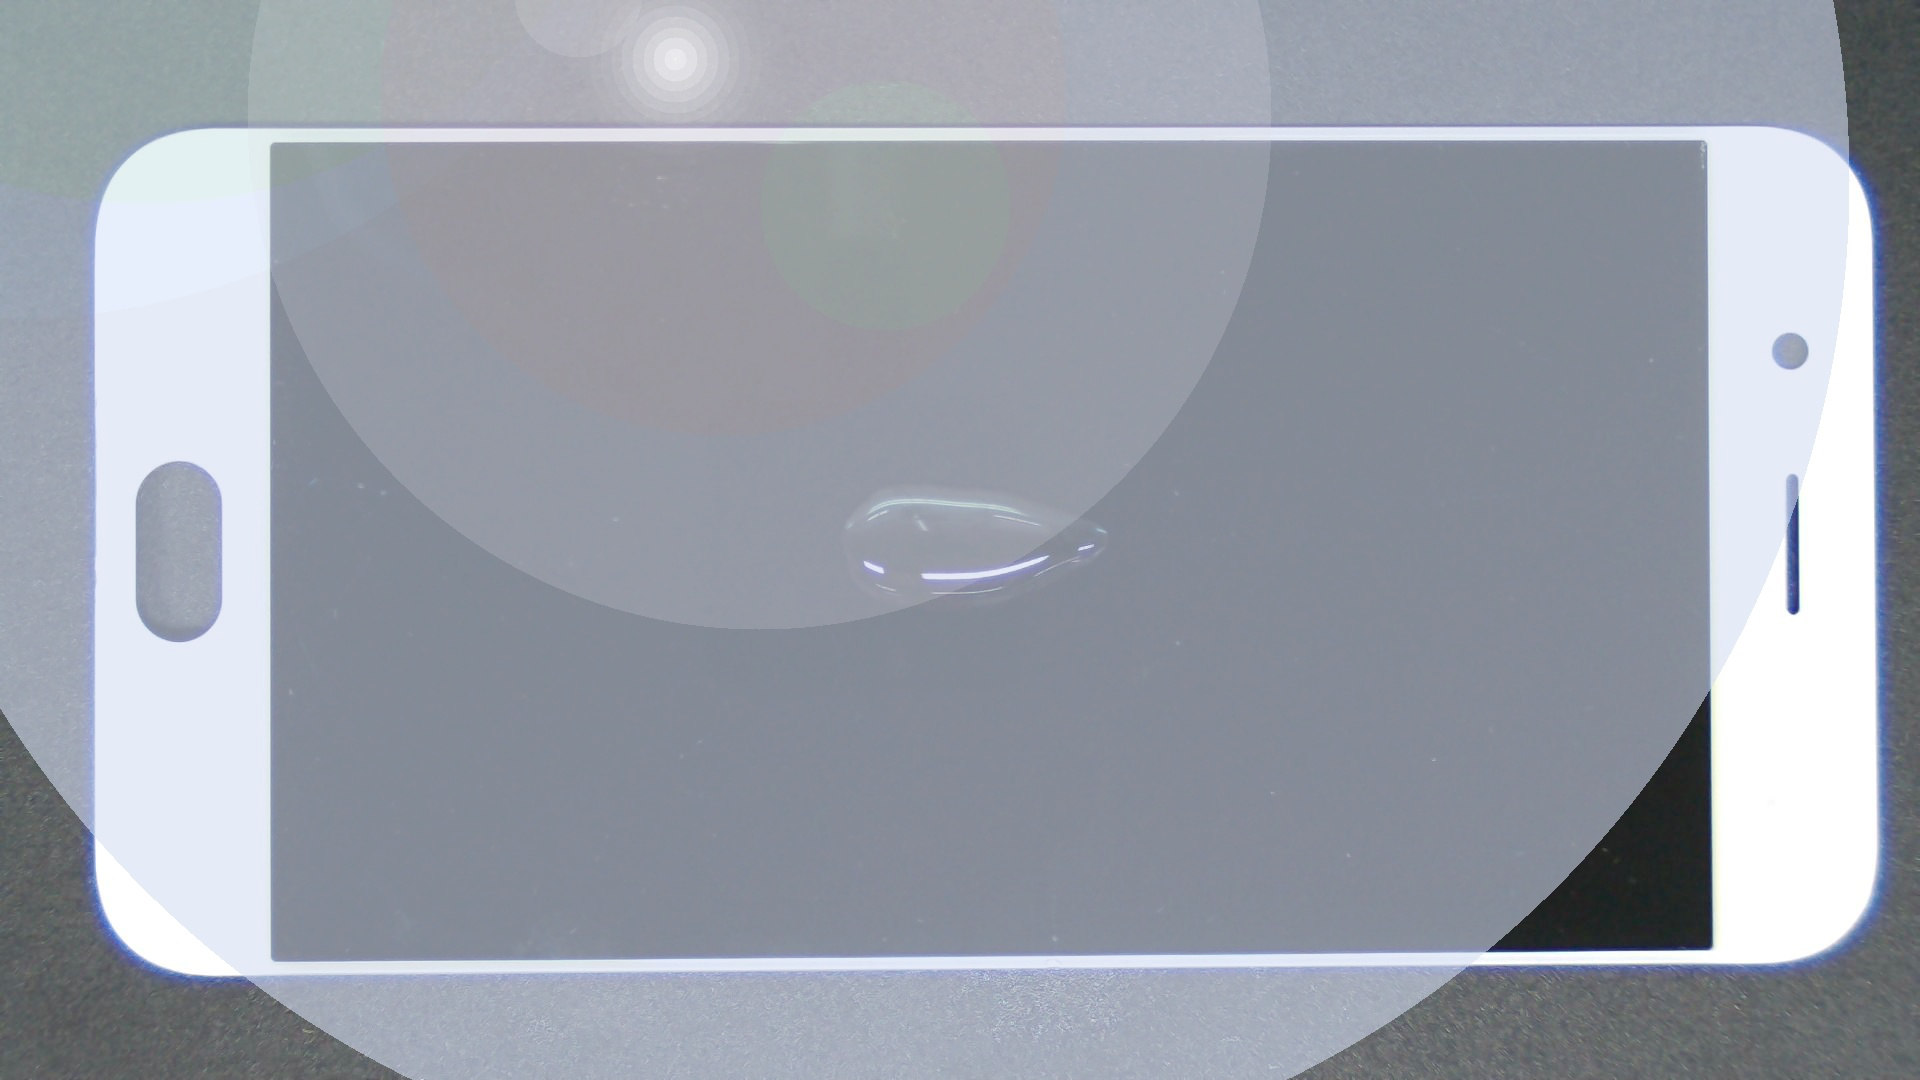oil: (459, 241, 1377, 727)
